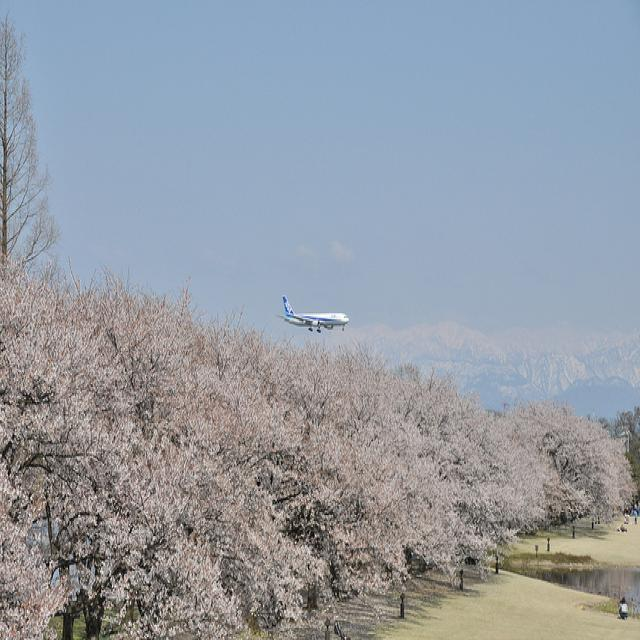airplane: (275, 294, 350, 334)
